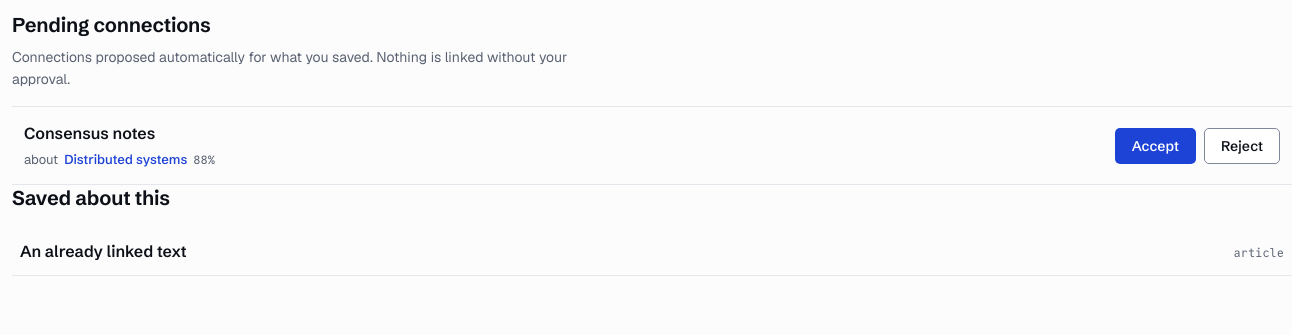
Test: the "Pending connections" tab › accepting takes the row out of the queue and puts the item on the subject’s panel
expect the text "Consensus notes" is not shown: met
Click the button "Accept".
click(1155, 146)  # box [1115,128,1196,164]
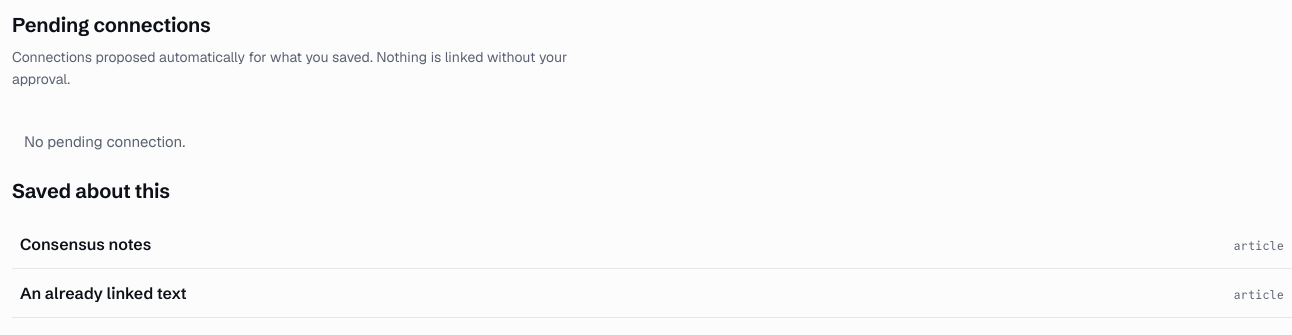
expect the text "Consensus notes" is shown: met, box [20,232,151,256]
expect the text "No pending connection." is shown: met, box [24,132,185,151]
